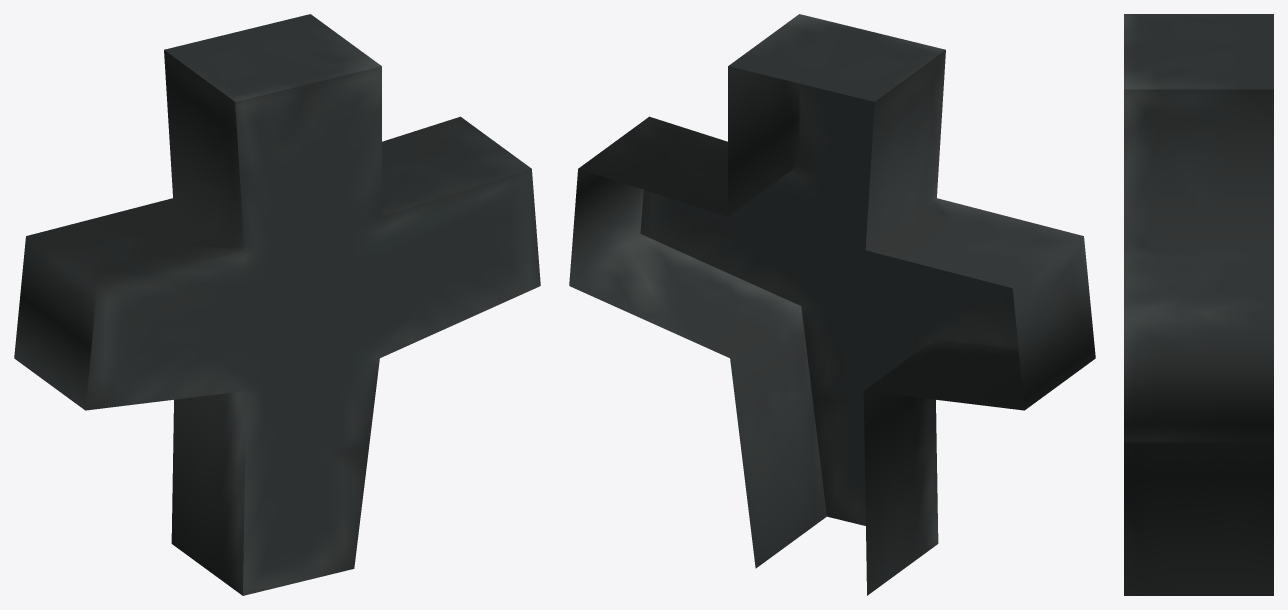
Rendered from yw_shanlin_tombstone_24.FBX.
3 renders of one model, left to right at view 1: azimuth 30°, elevation 25°; view 2: azimuth 150°, elevation 25°; view 3: azimuth 270°, elevation 25°, orthographic. The views are drawn at different scales.
Parts seen in each view (by area): view 1: yw_shanlin_tombstone_24; view 2: yw_shanlin_tombstone_24; view 3: yw_shanlin_tombstone_24.
Boxes of the visible parts, <box> form: yw_shanlin_tombstone_24: <box>14,14,540,595</box>; yw_shanlin_tombstone_24: <box>569,14,1095,595</box>; yw_shanlin_tombstone_24: <box>1124,14,1273,595</box>.
Bounding box in the file's own units: 18.63 × 19.39 × 5.05.
